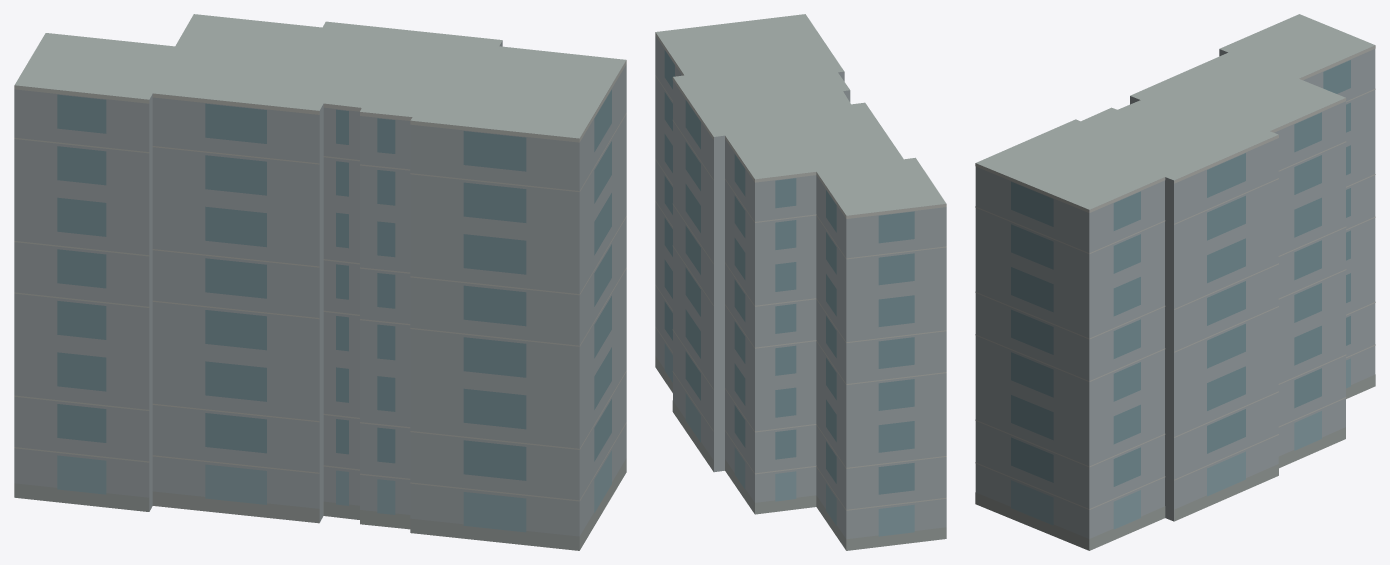
File: survey-upis-32989165.glb
3 views of the same model, side by side, from view 1: azimuth 30°, elevation 25°; view 2: azimuth 150°, elevation 25°; view 3: azimuth 270°, elevation 25° (orthographic). The views are drawn at different scales.
Parts seen in each view (by area): view 1: survey-upis-32989165.tmp; view 2: survey-upis-32989165.tmp; view 3: survey-upis-32989165.tmp.
Boxes of the visible parts, x1,y1,x2,y2 form: survey-upis-32989165.tmp: (14, 14, 626, 550); survey-upis-32989165.tmp: (655, 14, 946, 550); survey-upis-32989165.tmp: (975, 14, 1375, 550).
Bounding box in the file's own units: 30.31 × 24.6 × 26.16.
